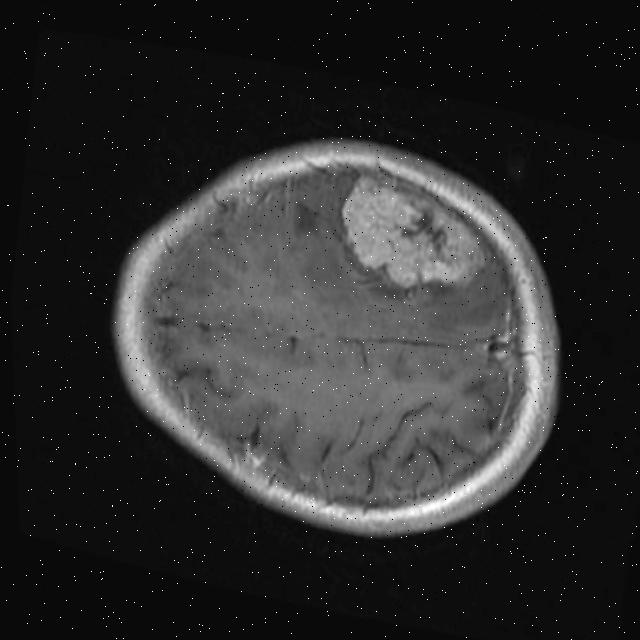Meningioma: (326, 165, 497, 307)
